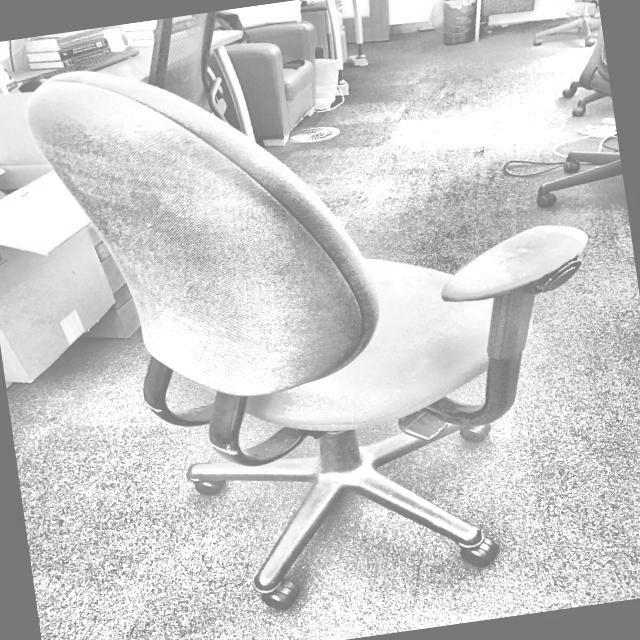chair: (19, 2, 632, 636)
